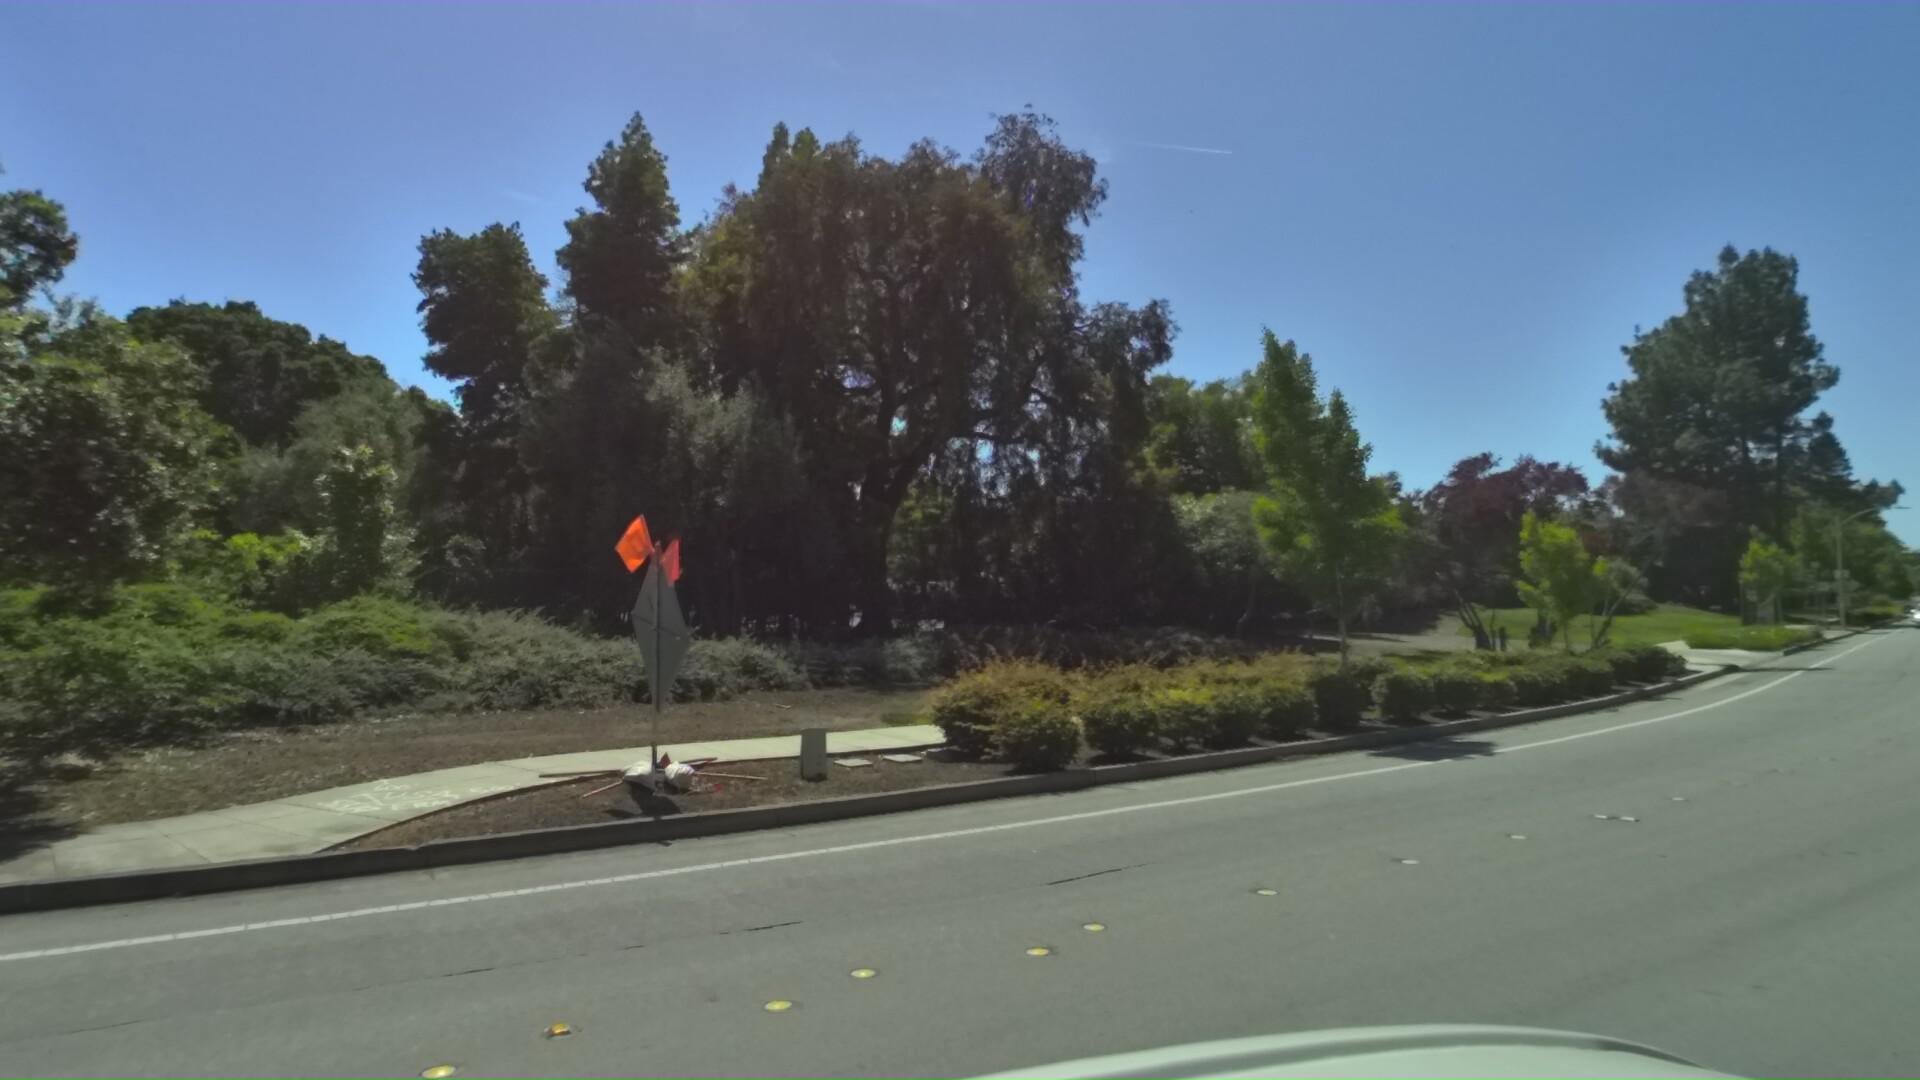car: (1904, 588, 1920, 622)
